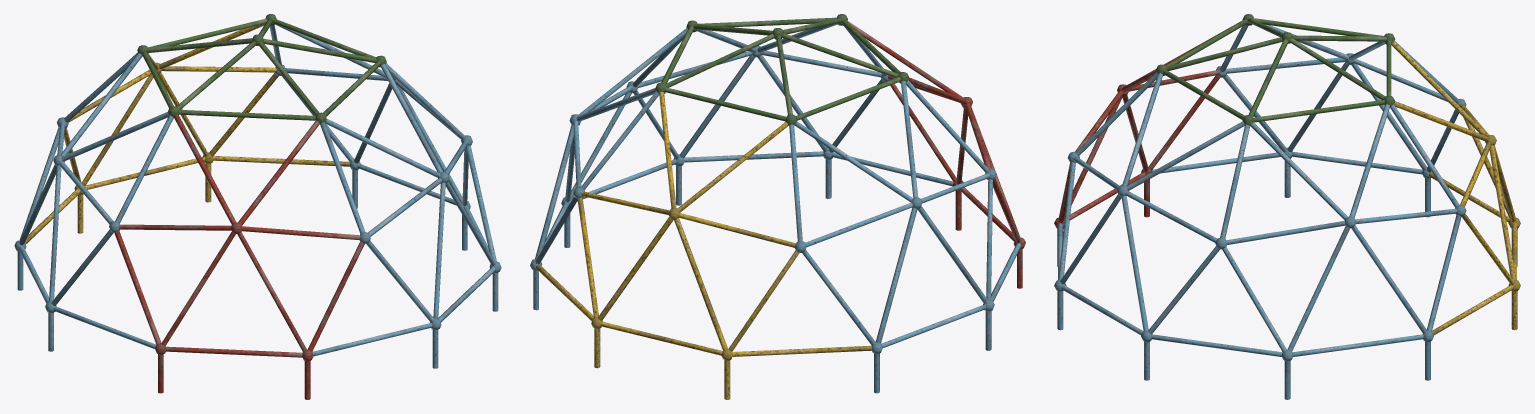
The model's file is playground_dome_climber_lod1_web.glb.
3 renders of one model, left to right at view 1: azimuth 30°, elevation 25°; view 2: azimuth 150°, elevation 25°; view 3: azimuth 270°, elevation 25°, orthographic.
Visible parts, largest first — view 1: DomeClimber_Mesh; view 2: DomeClimber_Mesh; view 3: DomeClimber_Mesh.
Boxes of the visible parts, x1,y1,x2,y2 form: DomeClimber_Mesh: (14,14,501,399); DomeClimber_Mesh: (530,14,1025,399); DomeClimber_Mesh: (1054,14,1520,399).
Bounding box in the file's own units: 4.31 × 2.58 × 4.1.
4 materials, 4 textured.
